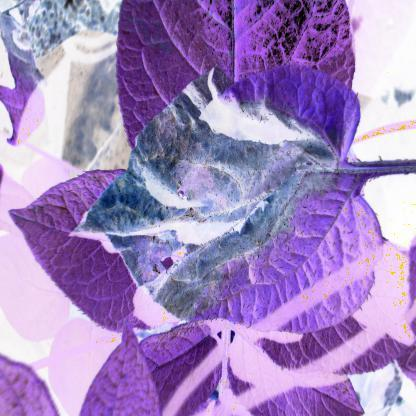Potato leaf late blight: (80, 61, 368, 328)
